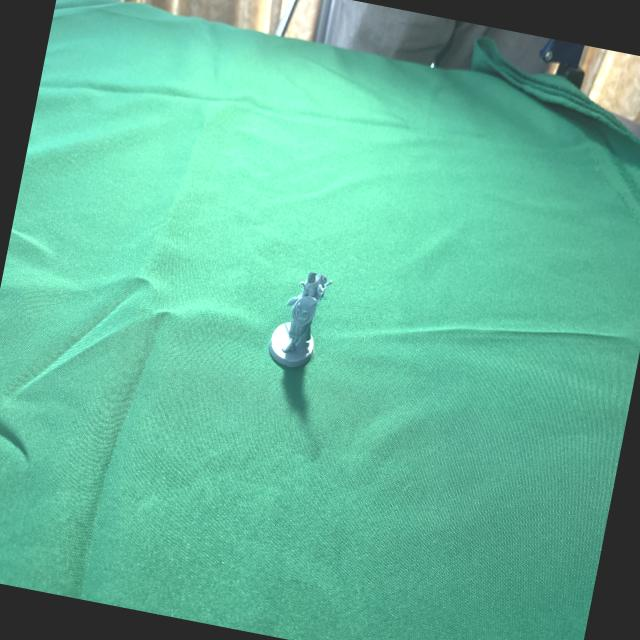isis_follower: (262, 266, 332, 376)
